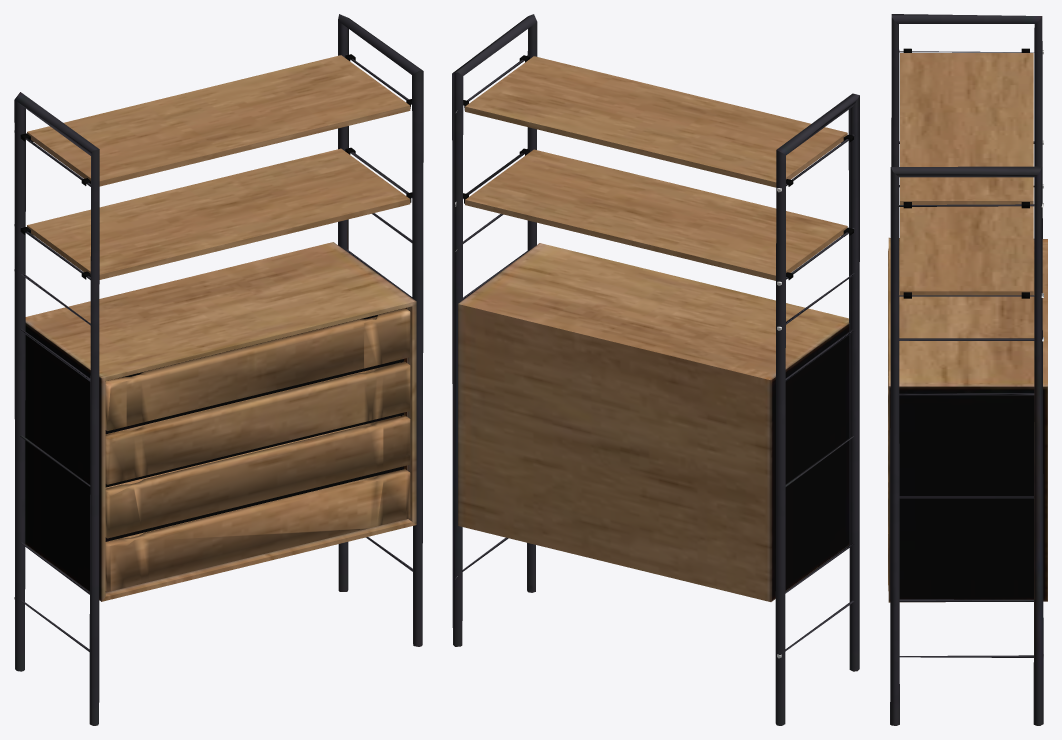
Rendered from drawer_cabinet.glb.
3 renders of one model, left to right at view 1: azimuth 30°, elevation 25°; view 2: azimuth 150°, elevation 25°; view 3: azimuth 270°, elevation 25°, orthographic. The views are drawn at different scales.
Visible parts, largest first — view 1: drawer_cabinet, drawer_cabinet_drawer_03, drawer_cabinet_drawer_02, drawer_cabinet_drawer_04, drawer_cabinet_drawer_01; view 2: drawer_cabinet; view 3: drawer_cabinet.
Part boxes in pixels (x1,y1,x2,y2): drawer_cabinet: [14, 14, 423, 725]; drawer_cabinet_drawer_03: [105, 415, 410, 538]; drawer_cabinet_drawer_02: [105, 362, 410, 484]; drawer_cabinet_drawer_04: [105, 469, 410, 591]; drawer_cabinet_drawer_01: [105, 308, 410, 430]; drawer_cabinet: [452, 14, 859, 725]; drawer_cabinet: [888, 14, 1047, 725].
Size of the model in its own units: 1.14 by 1.88 by 0.4881.
1 material, 1 textured.
